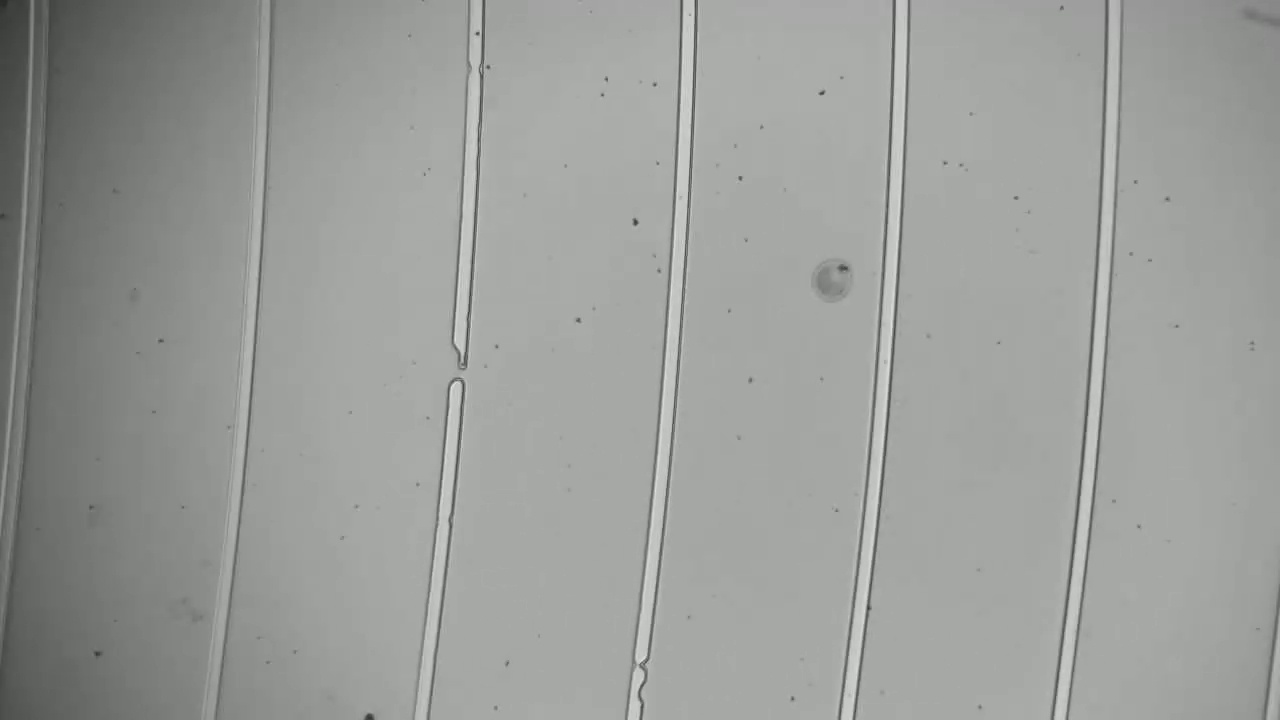edge_bite: (459, 53, 491, 86), (621, 677, 652, 708), (629, 646, 656, 676)
open: (441, 331, 473, 396)
